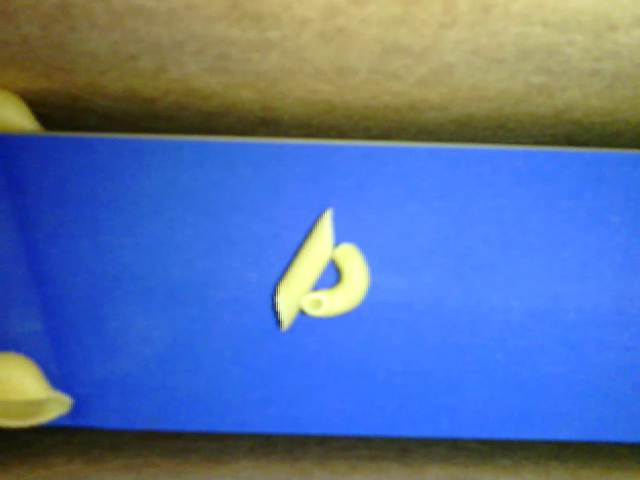elbow: (298, 242, 371, 317)
penne: (275, 205, 336, 331)
shell: (1, 349, 76, 428)
